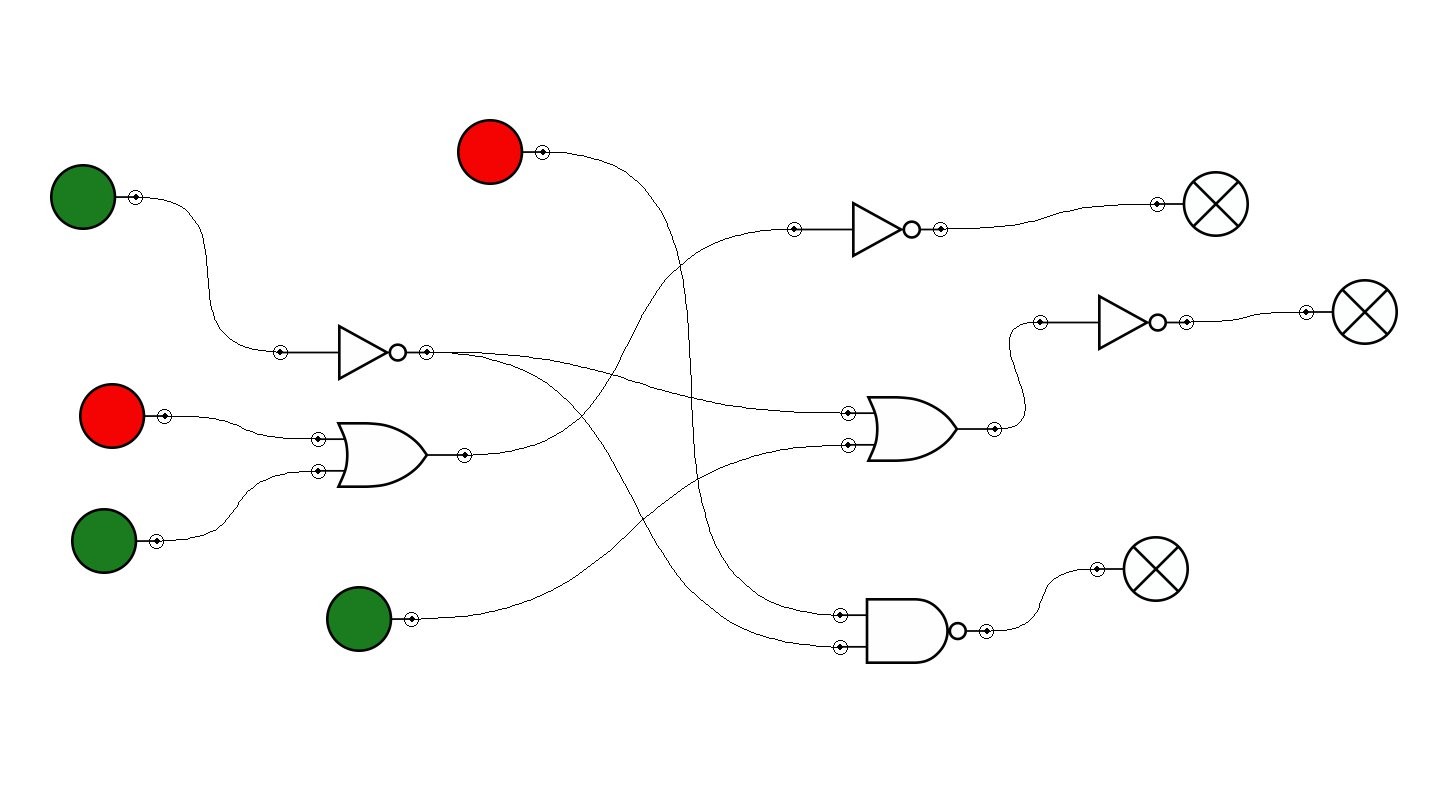bulb: (1090, 536, 1189, 602), (1299, 279, 1398, 345), (1150, 171, 1249, 237)
nand: (833, 598, 994, 664)
not: (273, 324, 434, 381), (787, 201, 948, 258), (1033, 294, 1194, 351)
or: (841, 396, 1002, 462), (311, 422, 472, 488)
switch_False: (457, 119, 550, 185), (79, 383, 172, 449)
switch_True: (71, 508, 164, 574), (326, 586, 419, 652), (50, 164, 143, 230)
